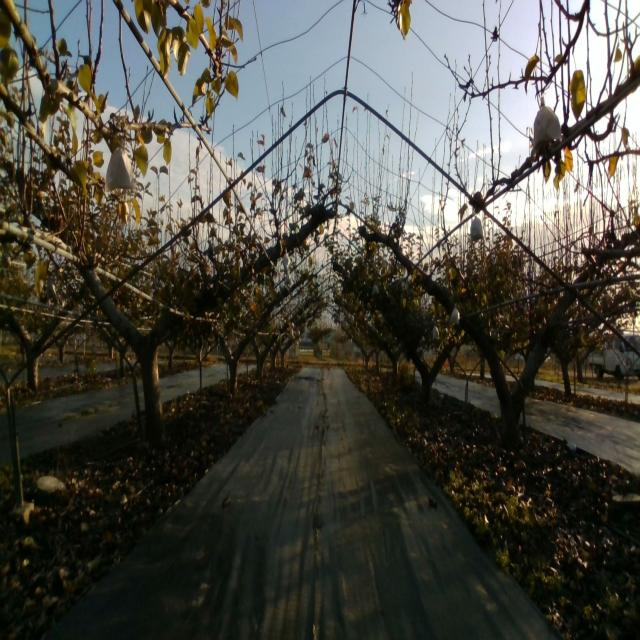pearbags: (532, 96, 562, 148), (104, 148, 136, 192), (469, 212, 484, 240), (450, 304, 460, 325)
